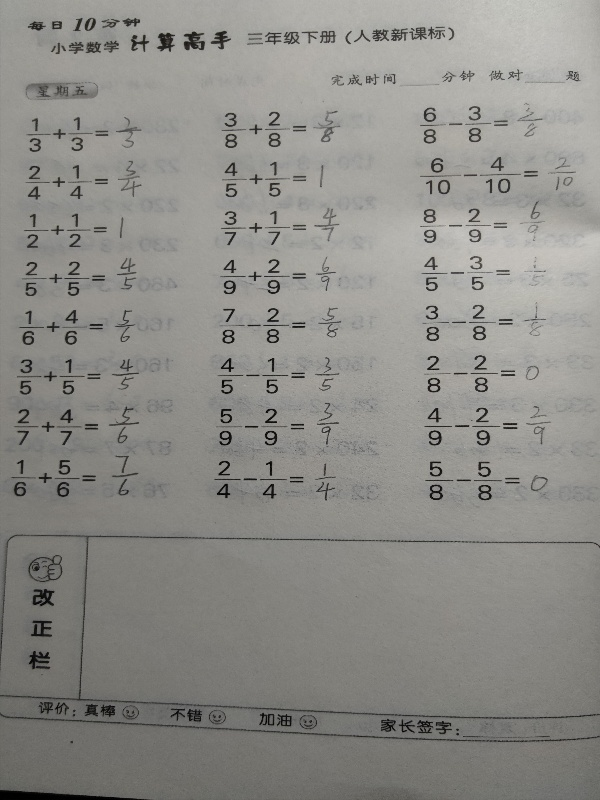equation: (421, 153, 581, 198), (9, 452, 150, 503), (213, 455, 342, 508), (216, 103, 351, 152), (14, 403, 148, 451), (215, 400, 344, 449), (424, 458, 557, 505), (418, 200, 550, 247), (14, 353, 147, 399), (423, 403, 555, 449), (218, 303, 350, 348), (417, 252, 553, 295), (415, 101, 547, 145), (221, 252, 342, 300), (420, 299, 552, 343), (22, 160, 151, 205), (23, 109, 147, 155), (17, 306, 141, 351), (422, 351, 548, 395), (17, 258, 148, 300), (219, 203, 344, 247), (216, 355, 343, 396), (20, 211, 138, 253), (216, 157, 331, 199)
